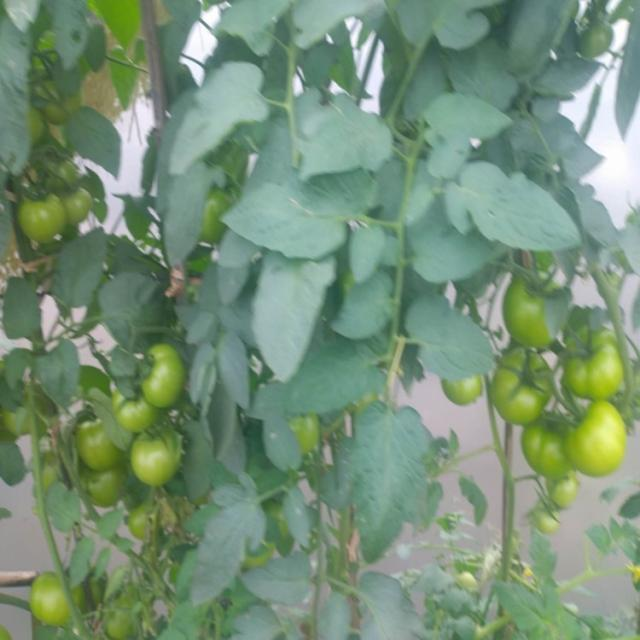tomato: (564, 402, 632, 477), (489, 347, 556, 422), (506, 271, 560, 355), (568, 324, 625, 396), (519, 416, 577, 473), (134, 427, 188, 486), (79, 415, 131, 473), (31, 571, 90, 621), (105, 583, 153, 640), (141, 345, 190, 400), (17, 188, 62, 241), (113, 388, 172, 428), (571, 17, 613, 66), (74, 472, 133, 506), (283, 419, 323, 461), (199, 188, 231, 237), (445, 373, 489, 407), (48, 82, 86, 117), (4, 402, 42, 434), (63, 180, 92, 219), (548, 473, 582, 506), (127, 502, 158, 536), (36, 452, 59, 494), (540, 505, 564, 534), (23, 99, 38, 143), (457, 568, 482, 589)
